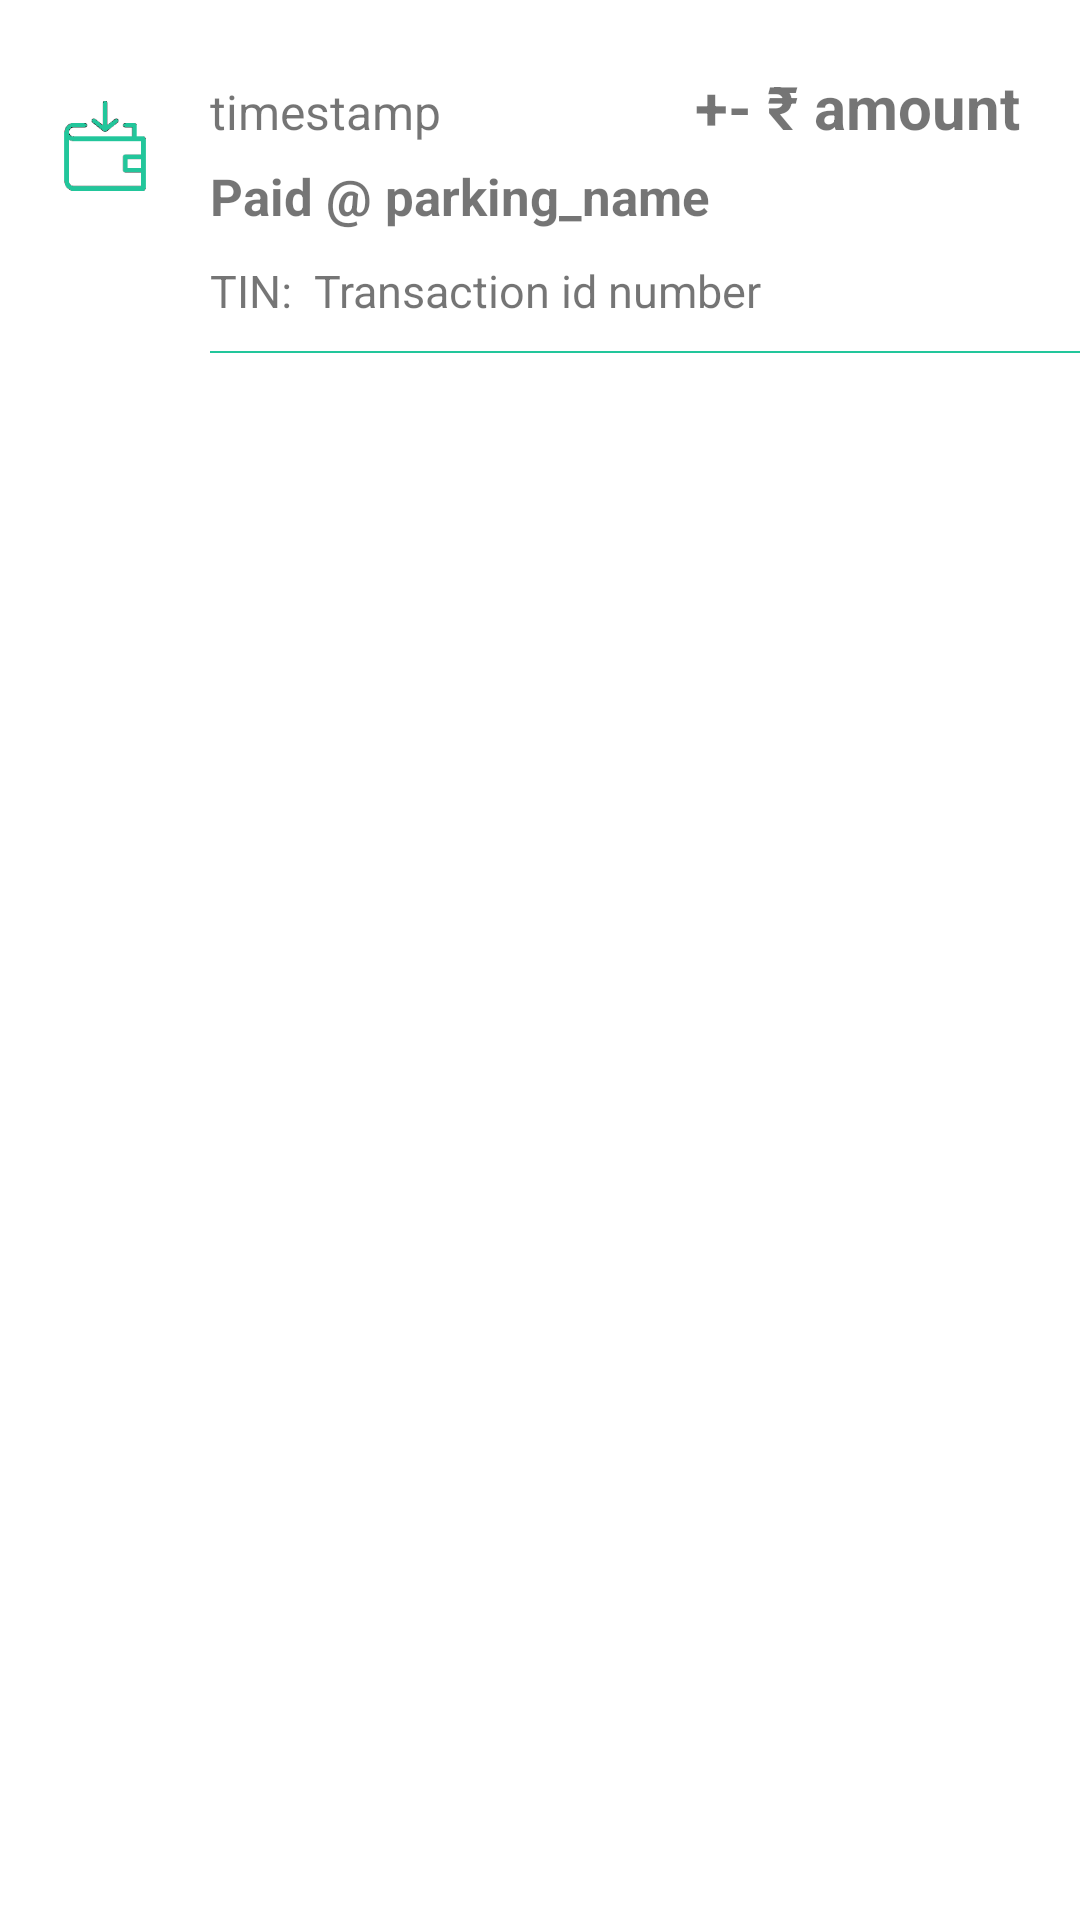

Locate icon controls on the screen. Image size 1080px x 1920px, boxes as (x1, y1, x2, y2).
money received: (64, 101, 146, 191)
